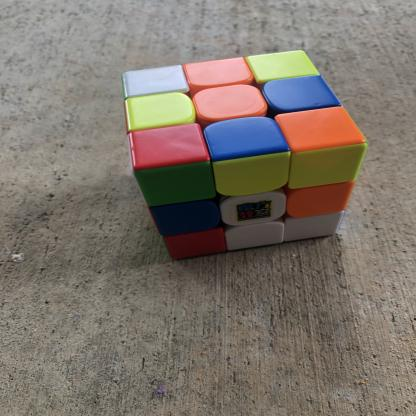UnsolvedCube: (106, 40, 368, 260)
